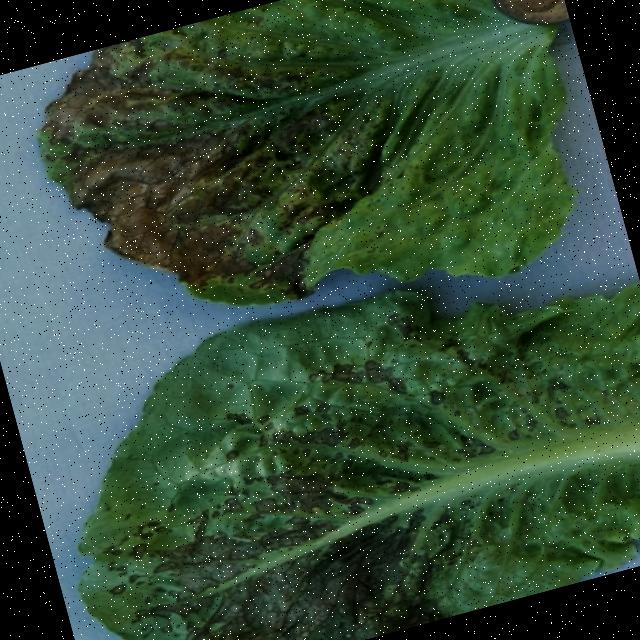Bacterial: (134, 305, 639, 640), (127, 0, 463, 277)
